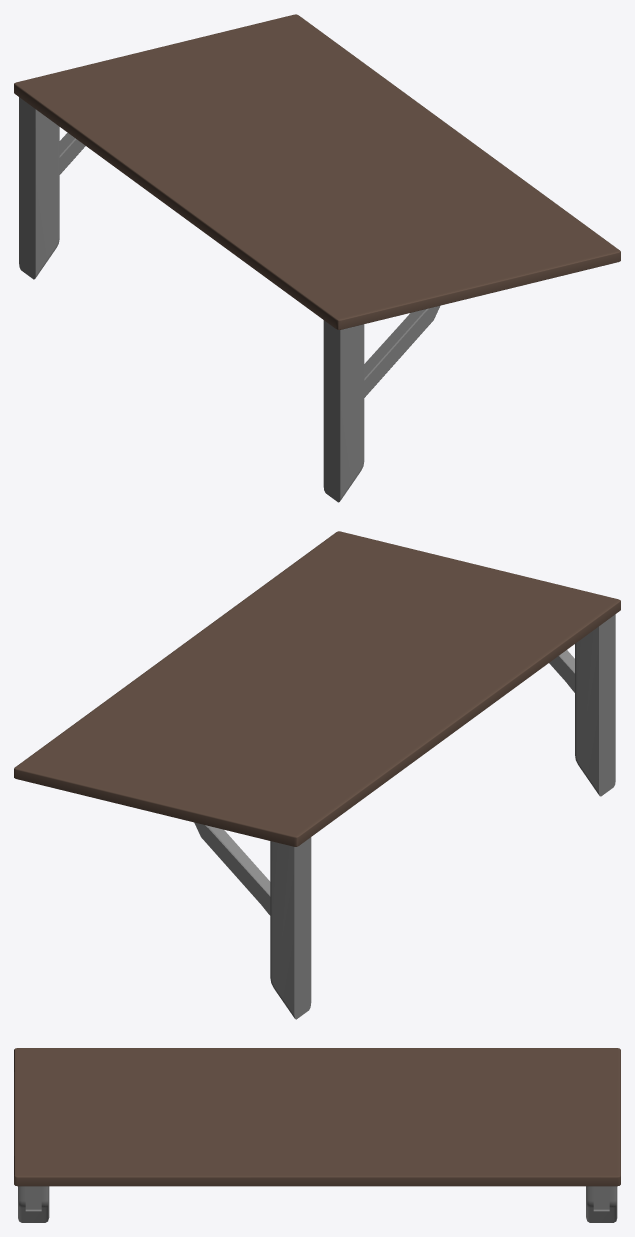
The model's file is wall shelf short.fbx.
3 views of the same model, one above another, from view 1: azimuth 30°, elevation 25°; view 2: azimuth 150°, elevation 25°; view 3: azimuth 270°, elevation 25° (orthographic). The views are drawn at different scales.
Visible parts, largest first — view 1: polySurface80; view 2: polySurface80; view 3: polySurface80.
Part boxes in pixels (left/top/right/bottom): polySurface80: left=14, top=14, right=620, bottom=502; polySurface80: left=14, top=531, right=620, bottom=1019; polySurface80: left=14, top=1048, right=620, bottom=1222.
Size of the model in its own units: 2.04 by 1.27 by 4.04.
